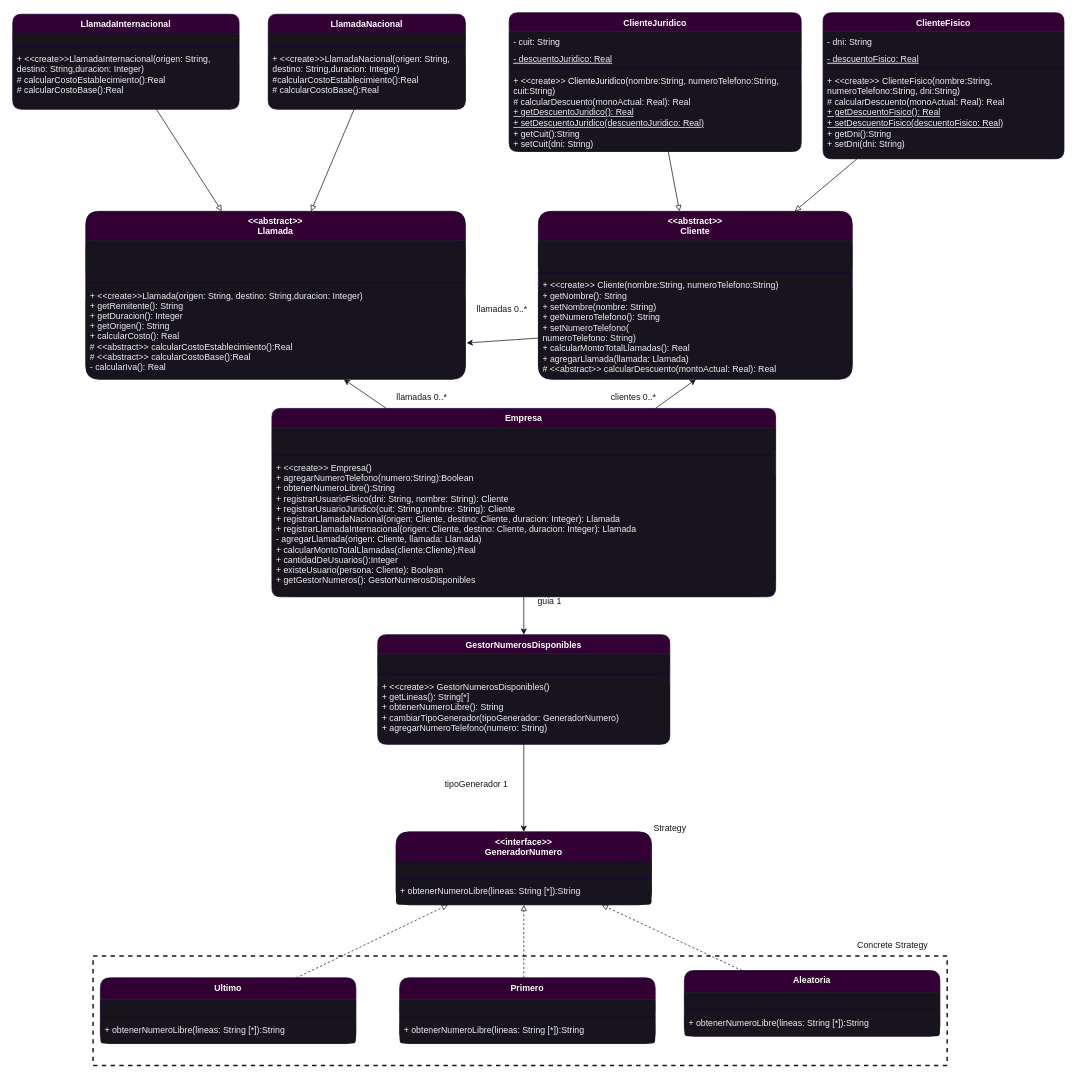
This 1077x1079 diagram has some shape labels left out. The centre of each missing label's shape, as x and y in pixels:
- lineas : String [*]: point (523, 662)
- nombre: String - numeroTelefono: String: point (695, 254)
- origen: String - destino: String - duracion: Integer: point (275, 260)
